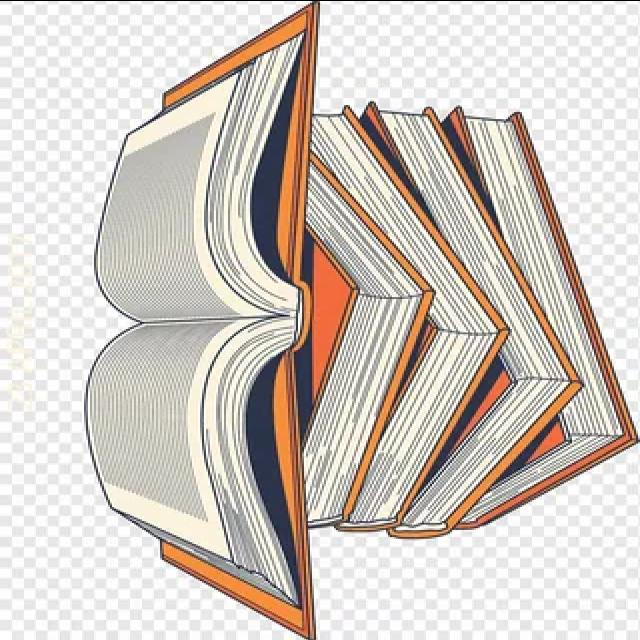book: (60, 0, 341, 634)
